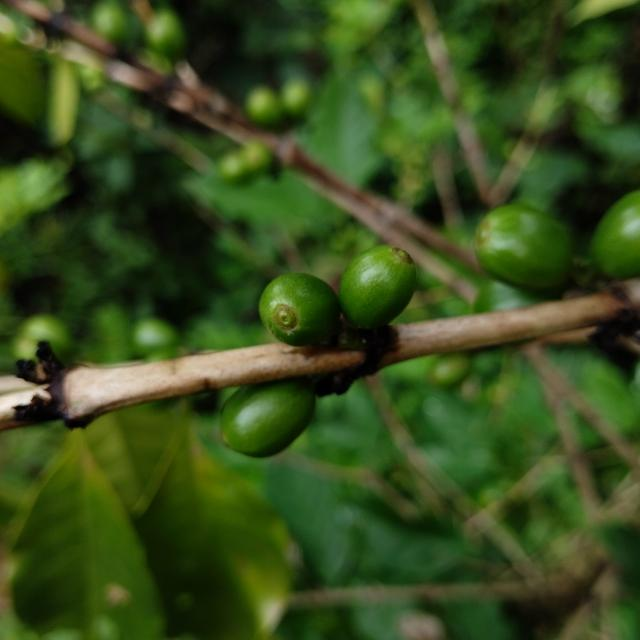green: (476, 204, 573, 288), (221, 378, 316, 458), (339, 245, 417, 329), (259, 273, 341, 346), (591, 189, 640, 278)
